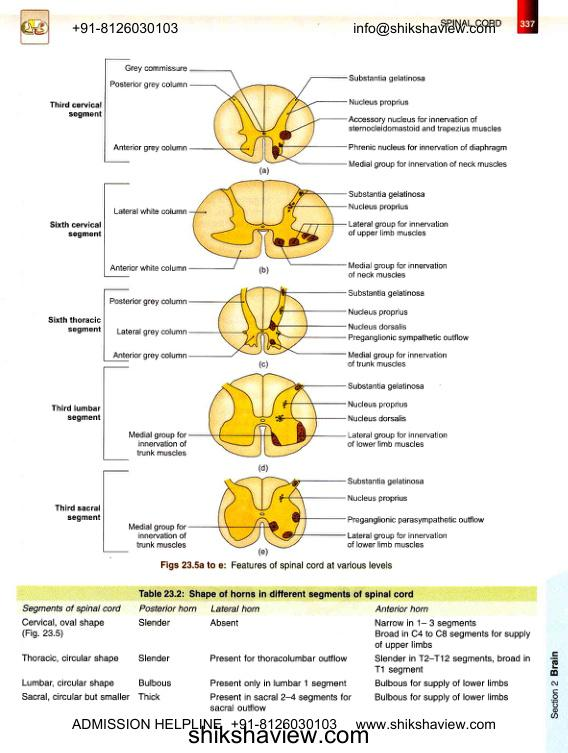caption: (137, 588, 414, 600), (159, 560, 393, 571), (258, 265, 270, 276), (257, 547, 269, 558), (257, 463, 269, 473), (257, 360, 270, 369), (258, 166, 270, 175)
image: (30, 53, 505, 559)
table: (17, 602, 537, 714)
